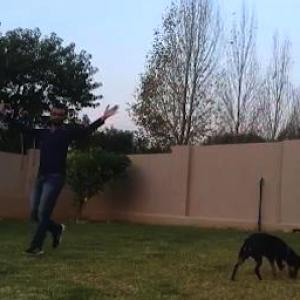takeoff: (1, 101, 136, 255)
